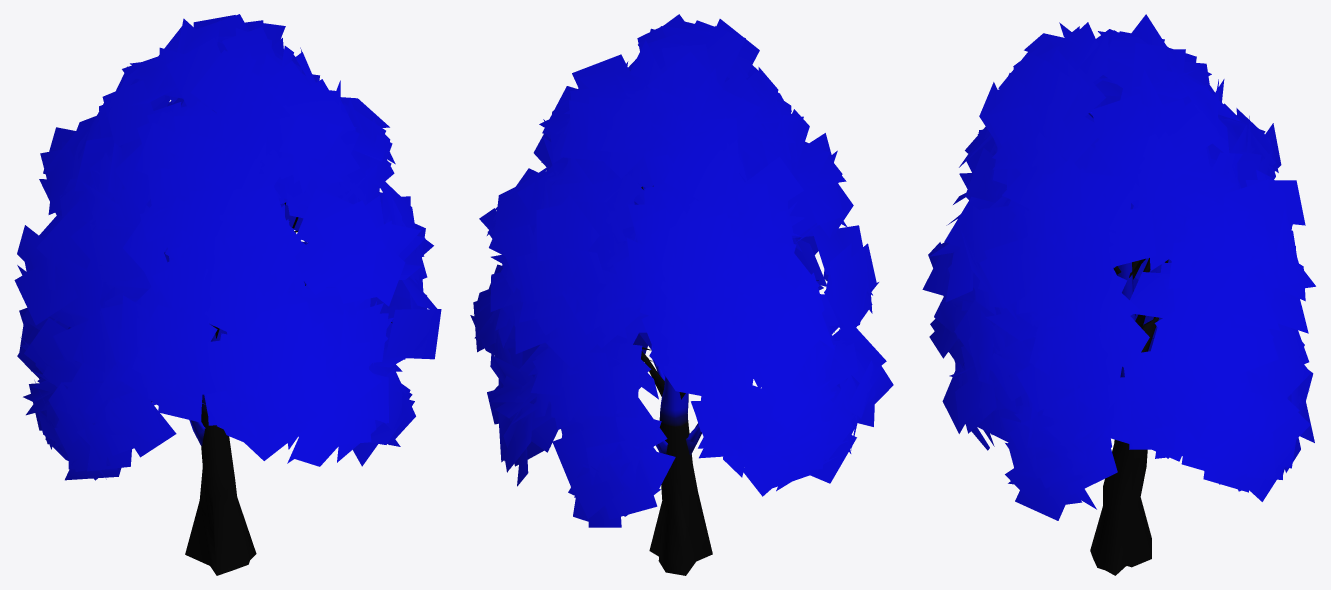
File: DDCGTREE1 1.fbx
3 renders of one model, left to right at view 1: azimuth 30°, elevation 25°; view 2: azimuth 150°, elevation 25°; view 3: azimuth 270°, elevation 25°, orthographic. The views are drawn at different scales.
Parts seen in each view (by area): view 1: DDCGTREE1; view 2: DDCGTREE1; view 3: DDCGTREE1.
Boxes of the visible parts, box(x1,y1,x2,y2) form: DDCGTREE1: box(14, 14, 441, 575); DDCGTREE1: box(470, 14, 893, 575); DDCGTREE1: box(922, 14, 1315, 575).
Bounding box in the file's own units: 1150 × 1612 × 1078.
